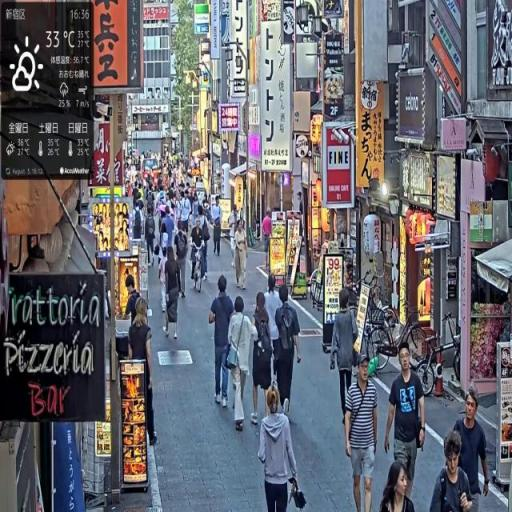person: (384, 343, 428, 510), (259, 385, 304, 512), (345, 356, 379, 512), (329, 289, 362, 434), (452, 392, 491, 512), (128, 299, 159, 449), (226, 297, 257, 435), (275, 285, 304, 419), (209, 272, 237, 408), (430, 432, 475, 512), (251, 291, 277, 427), (378, 458, 417, 512), (162, 245, 183, 343), (191, 219, 208, 292), (175, 222, 190, 303), (234, 219, 249, 292), (145, 207, 158, 268), (213, 196, 224, 258)
